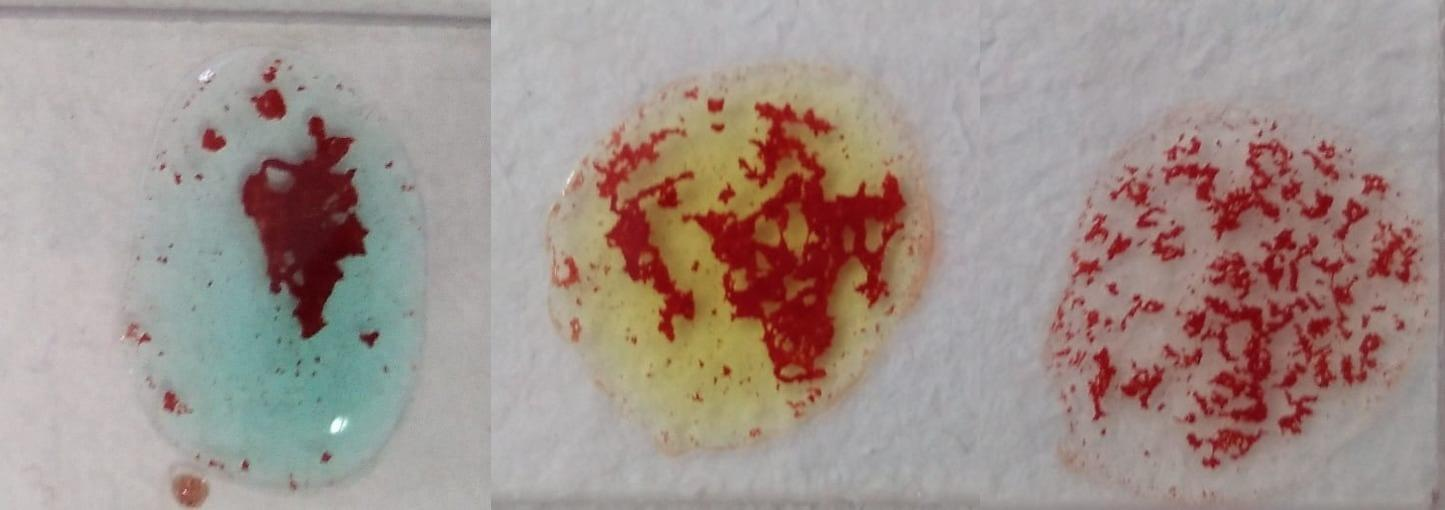A: (119, 46, 429, 484)
B: (555, 67, 920, 450)
D: (1052, 110, 1406, 475)
